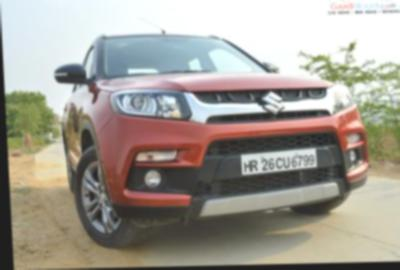License_Plate: (236, 143, 317, 172)
